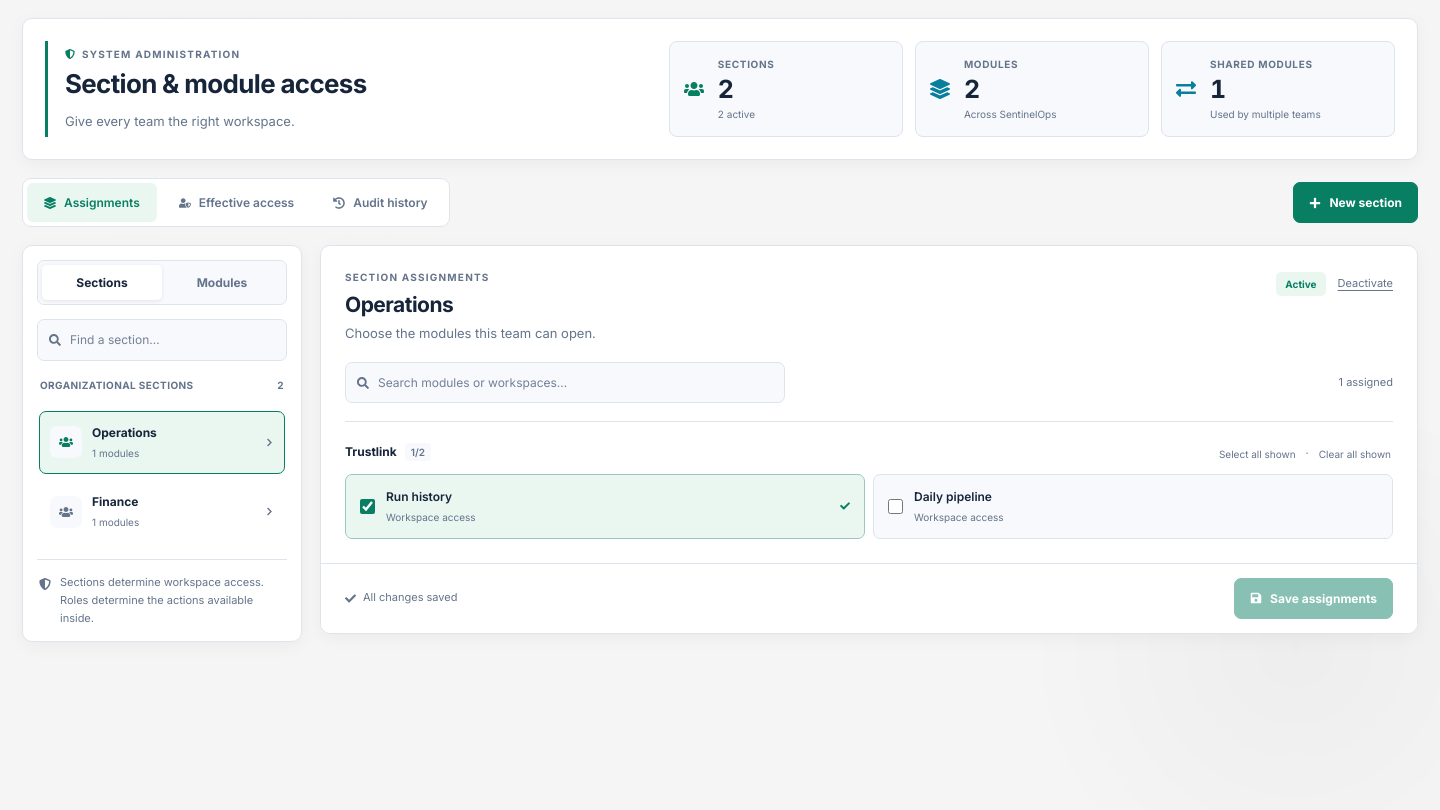
Scenario: group selection saves one section without replacing shared ownership
expect the button "Operations 1 modules" is shown: met, box x1=39 y1=411 x2=285 y2=474
expect the checkbox labelled "Run history Workspace access" is checked: met, box x1=360 y1=499 x2=375 y2=514
Click the button "Select all shown". click: point(1257, 454)
box: x1=1217 y1=444 x2=1298 y2=464
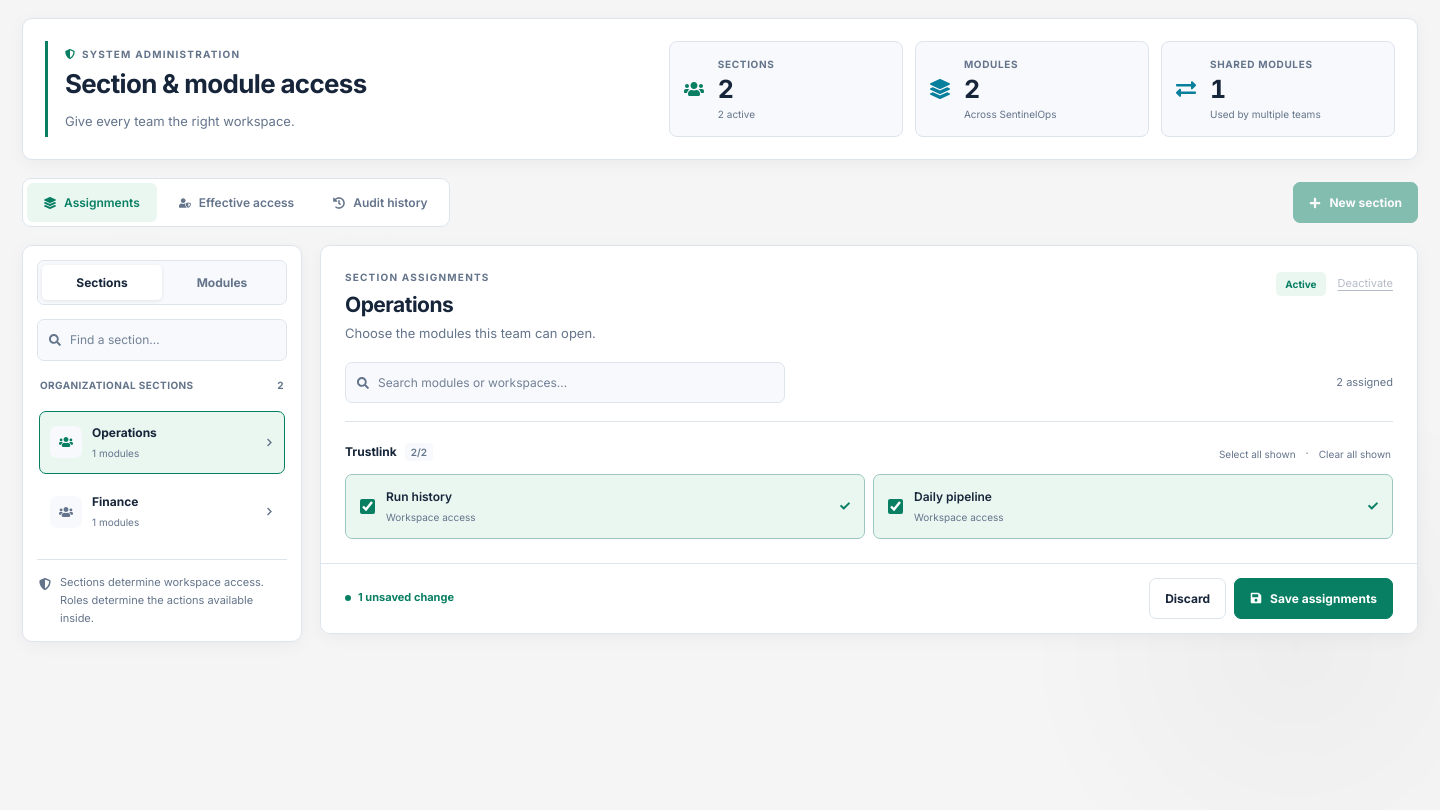
Click the button "Save assignments". click: point(1314, 598)
box: x1=1234 y1=578 x2=1393 y2=619
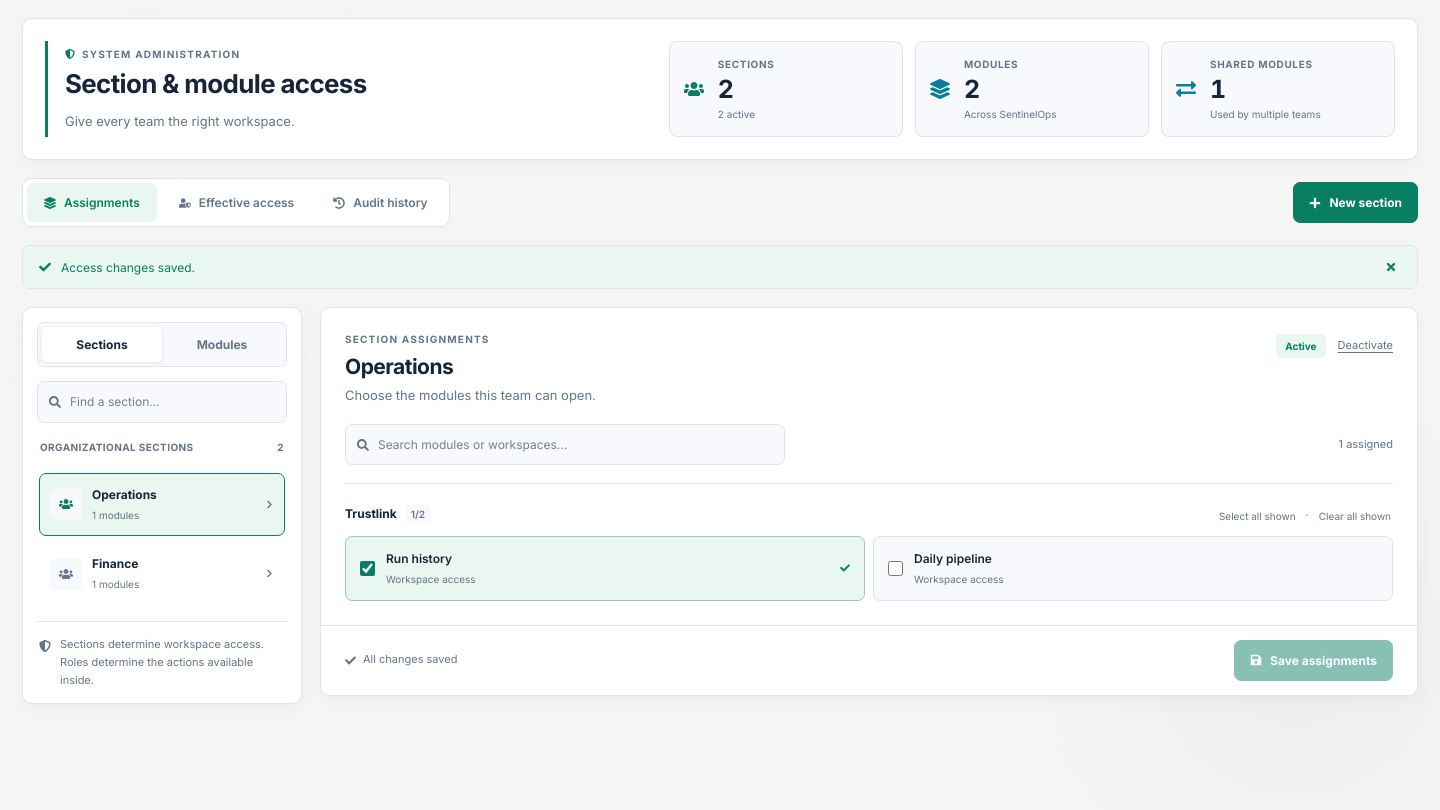
expect the text "Access changes saved." is shown: met, box x1=39 y1=258 x2=195 y2=277
